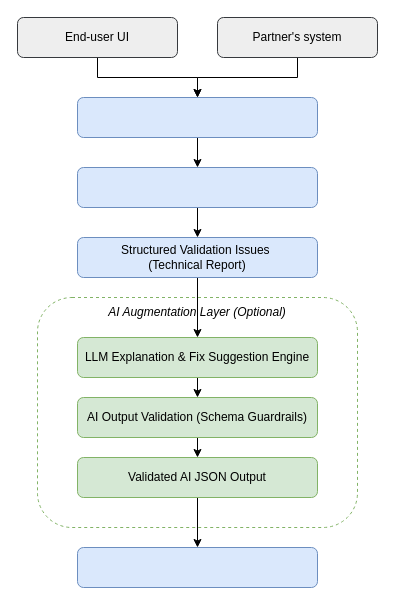
Some shapes in this 395 by 605 pixel diagram are drawn without their labels. Each missing label, with the centre of its shape:
"API Request submission" belongs at point 197,117.
"JSON Schema Contract Validation" belongs at point 197,187.
"User report / E-mail notification" belongs at point 197,567.
